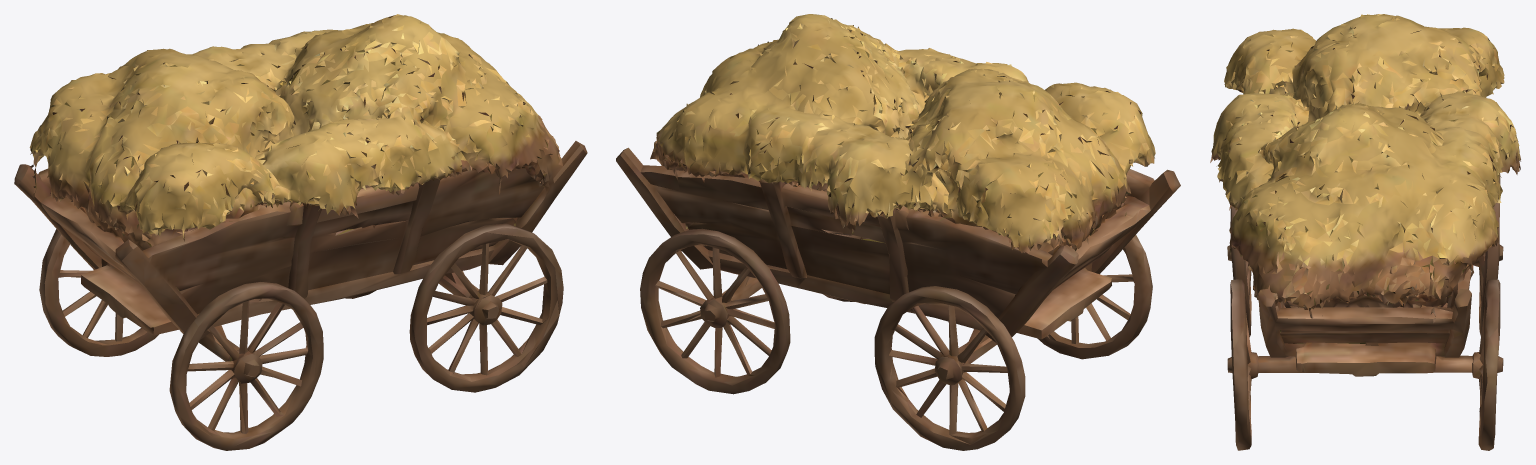
File: HayWagon.glb
3 renders of one model, left to right at view 1: azimuth 30°, elevation 25°; view 2: azimuth 150°, elevation 25°; view 3: azimuth 270°, elevation 25°, orthographic. The views are drawn at different scales.
Visible parts, largest first — view 1: HayWagon; view 2: HayWagon; view 3: HayWagon.
Part boxes in pixels (box(x1,y1,x2,y2)): HayWagon: box(14, 14, 587, 450); HayWagon: box(616, 14, 1180, 450); HayWagon: box(1210, 14, 1520, 450).
Size of the model in its own units: 3.12 by 2.12 by 1.87.
Materials: 1 (1 with a texture image).
